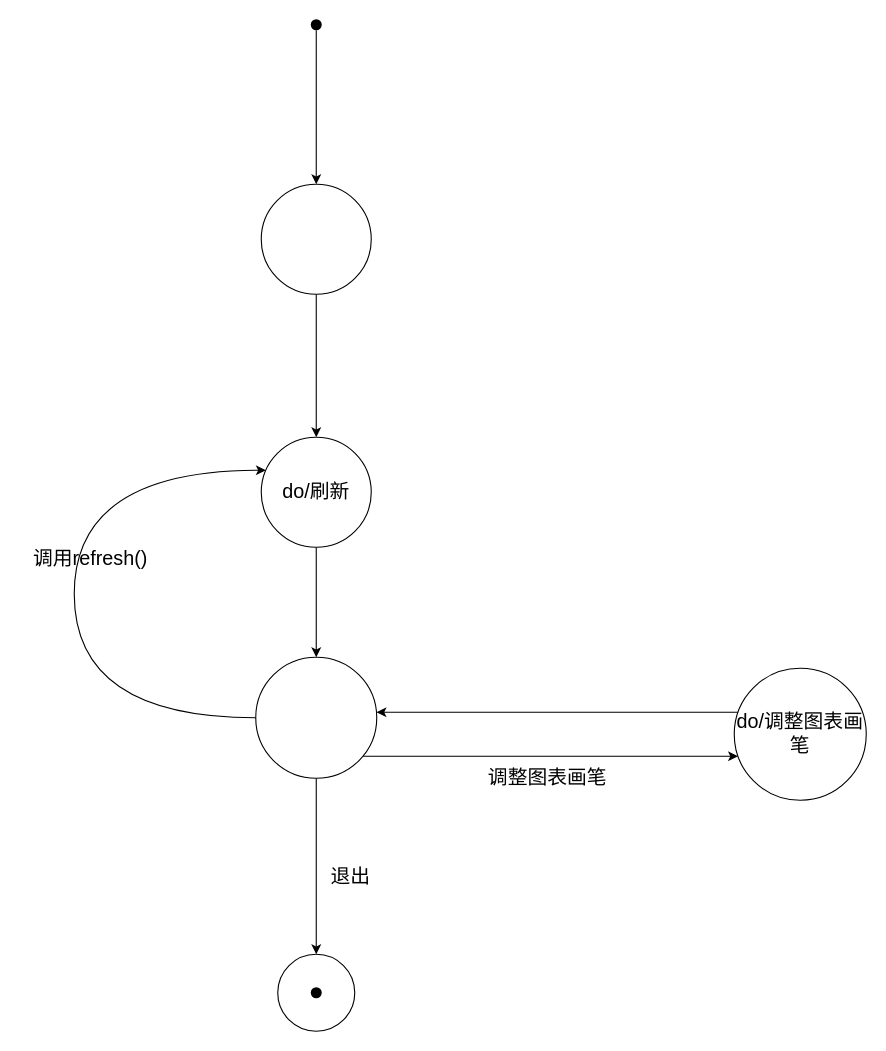
Image size: 886x1051. Some labels were removed from this diagram. The centre of each missing label's shape, as x and y in pixels:
do/初始化: the point at 315,238
do/显示并等待: the point at 316,717
